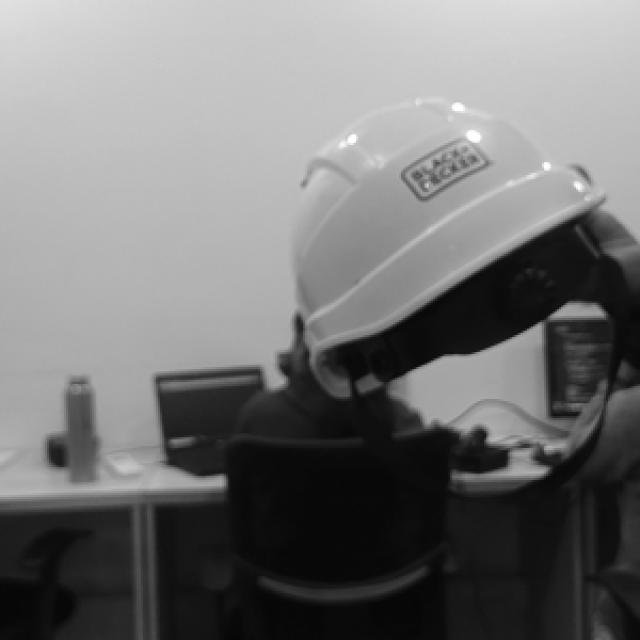safety_helmet: (293, 99, 605, 396)
